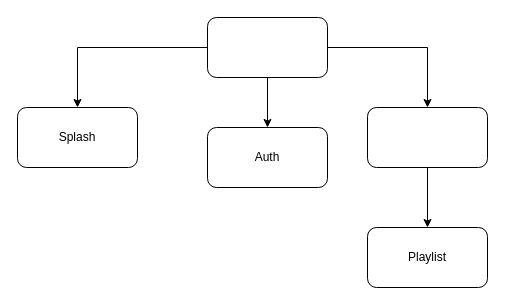
This 505x305 diagram has some shape labels left out. Each missing label, with the centre of its shape:
Main: point (427, 137)
Root: point (267, 47)
